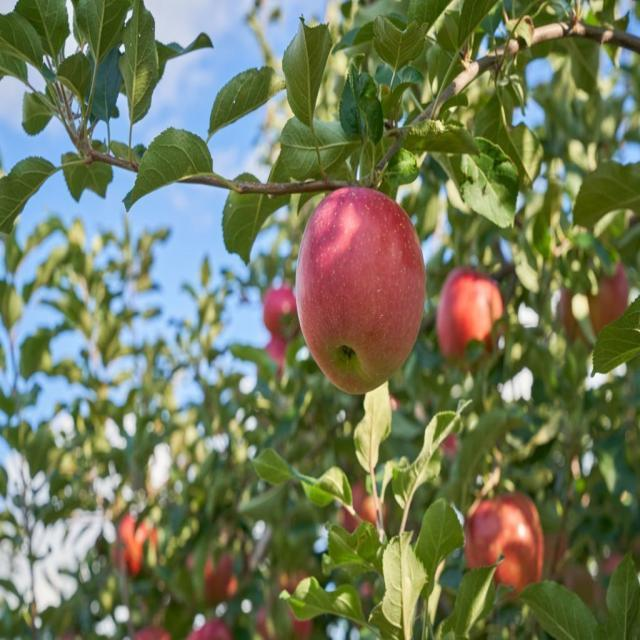Red Apple: (293, 185, 430, 393), (466, 501, 546, 596), (444, 269, 503, 354), (573, 263, 628, 334), (117, 518, 160, 574), (347, 483, 383, 531), (268, 286, 301, 333), (202, 557, 237, 598), (268, 336, 292, 370), (286, 612, 314, 640), (190, 623, 227, 640), (255, 609, 276, 637), (278, 571, 307, 591), (135, 626, 173, 640), (361, 580, 374, 606), (445, 434, 456, 458)
